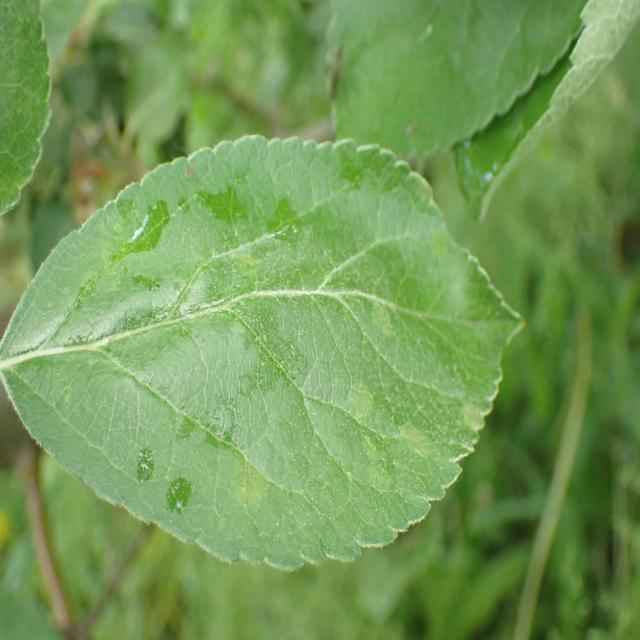scab: (40, 186, 505, 510)
